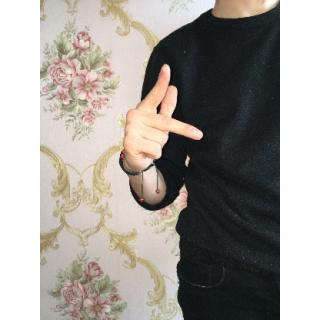DHAA: (117, 58, 208, 173)
